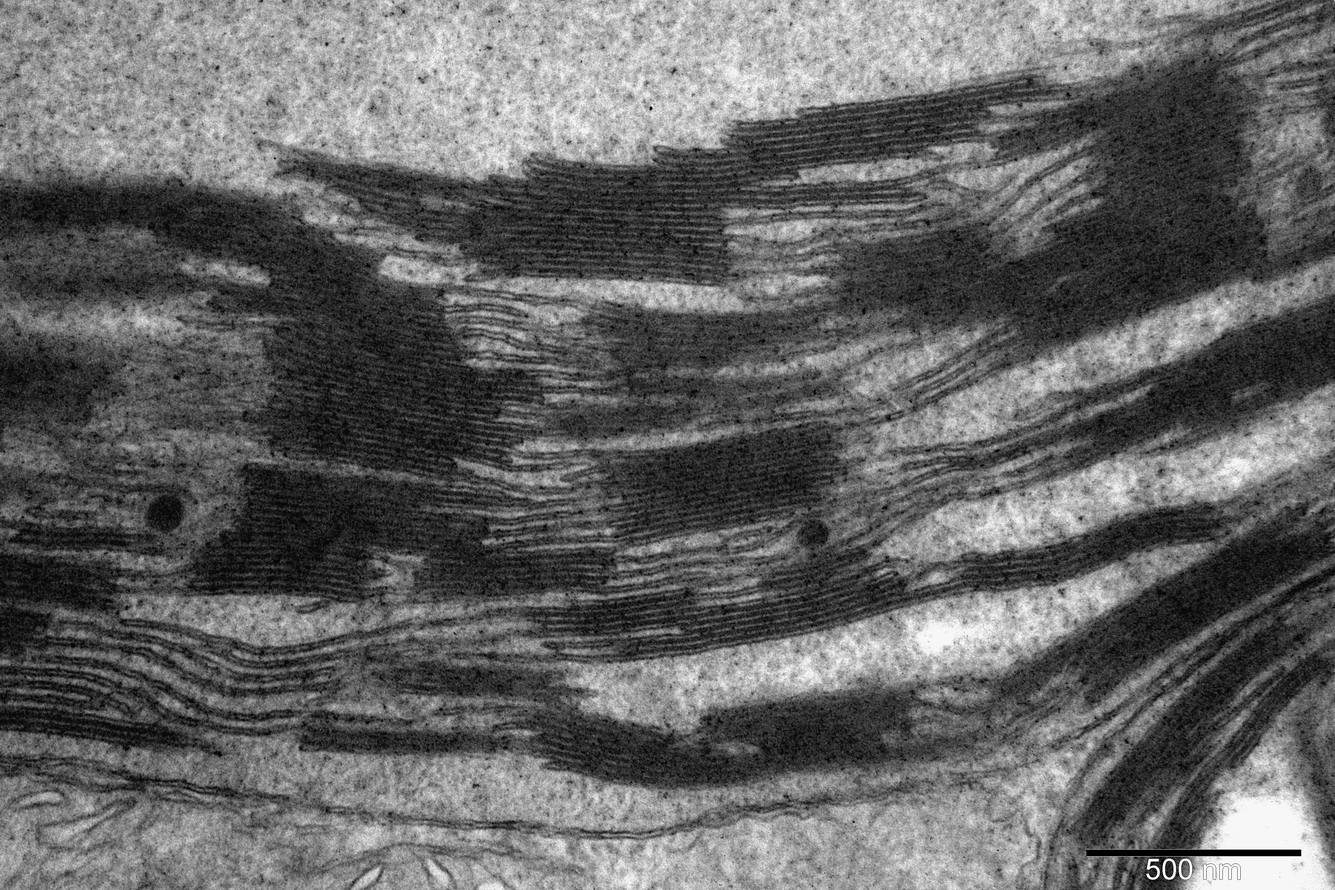granum: (987, 50, 1286, 366), (211, 208, 544, 484), (1004, 502, 1333, 712), (1064, 615, 1307, 847), (1066, 288, 1335, 474), (187, 459, 507, 604), (455, 143, 742, 287), (728, 67, 1048, 189), (599, 418, 848, 549), (614, 565, 911, 664), (1, 174, 291, 270), (945, 500, 1225, 599), (538, 296, 834, 378), (503, 702, 768, 793), (830, 219, 1006, 342), (696, 681, 915, 779), (279, 144, 480, 246), (412, 542, 618, 606), (1222, 651, 1327, 771), (0, 331, 114, 426), (0, 261, 193, 315), (0, 703, 188, 756), (388, 651, 566, 704), (297, 722, 531, 762), (1137, 786, 1223, 889), (538, 586, 699, 640), (0, 548, 116, 614), (545, 397, 692, 442), (741, 177, 928, 210), (762, 541, 871, 593), (17, 522, 154, 555), (1257, 231, 1335, 288), (0, 602, 50, 657)
